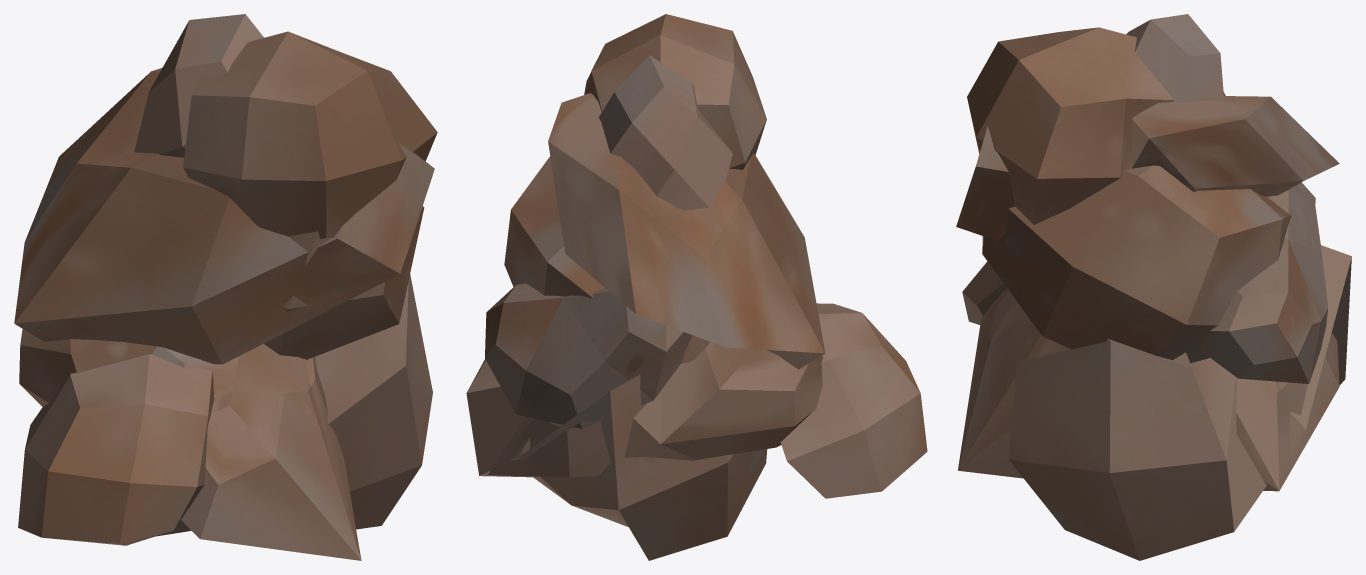
File: rubble_3.fbx
3 renders of one model, left to right at view 1: azimuth 30°, elevation 25°; view 2: azimuth 150°, elevation 25°; view 3: azimuth 270°, elevation 25°, orthographic. The views are drawn at different scales.
Parts seen in each view (by area): view 1: rock.009, rock.004, rock.008, rock.001, rock.005, rock.006, rock.003; view 2: rock.009, rock.008, rock.005, rock.002, rock.001, rock.006, rock.004, rock.003; view 3: rock.005, rock.003, rock.004, rock.009, rock.008, rock.002, rock.006, rock.001.
Part boxes in pixels (box(x1,y1,x2,y2)): rock.009: box(14, 68, 434, 364); rock.004: box(183, 31, 437, 238); rock.008: box(19, 329, 361, 560); rock.001: box(18, 354, 214, 545); rock.005: box(155, 274, 432, 536); rock.006: box(134, 14, 263, 157); rock.003: box(264, 206, 424, 359); rock.009: box(548, 93, 825, 369); rock.008: box(488, 342, 823, 477); rock.005: box(466, 359, 767, 560); rock.002: box(485, 283, 692, 428); rock.001: box(780, 303, 927, 498); rock.006: box(598, 55, 732, 210); rock.004: box(584, 14, 766, 169); rock.003: box(504, 156, 709, 363); rock.005: box(1008, 245, 1351, 560); rock.003: box(982, 165, 1291, 363); rock.004: box(967, 27, 1174, 224); rock.009: box(956, 96, 1339, 240); rock.008: box(958, 289, 1339, 491); rock.002: box(1199, 182, 1327, 383); rock.006: box(1126, 14, 1225, 102); rock.001: box(962, 261, 1007, 324).
Bounding box in the file's own units: 173 × 208 × 149.
